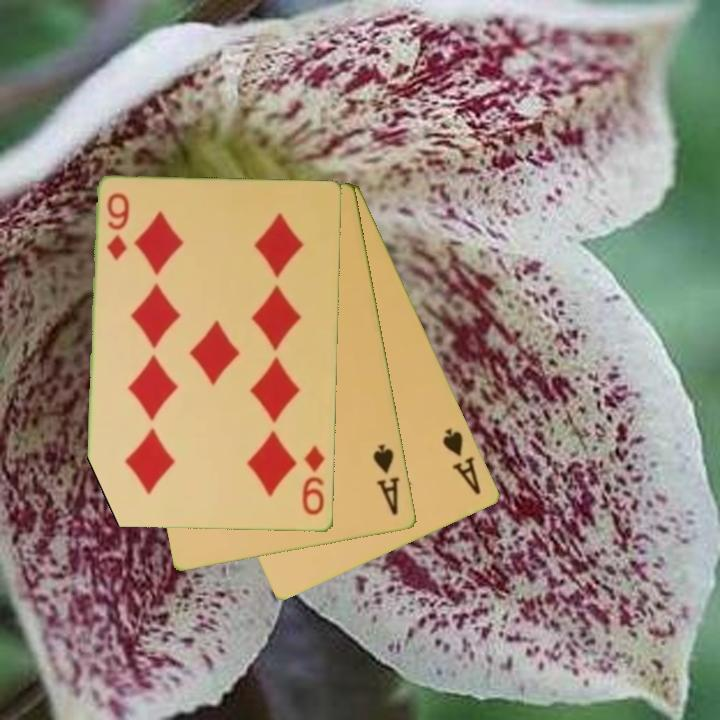9d: (299, 442, 329, 519), (104, 189, 132, 264)
As: (439, 425, 485, 498), (370, 441, 403, 519)
